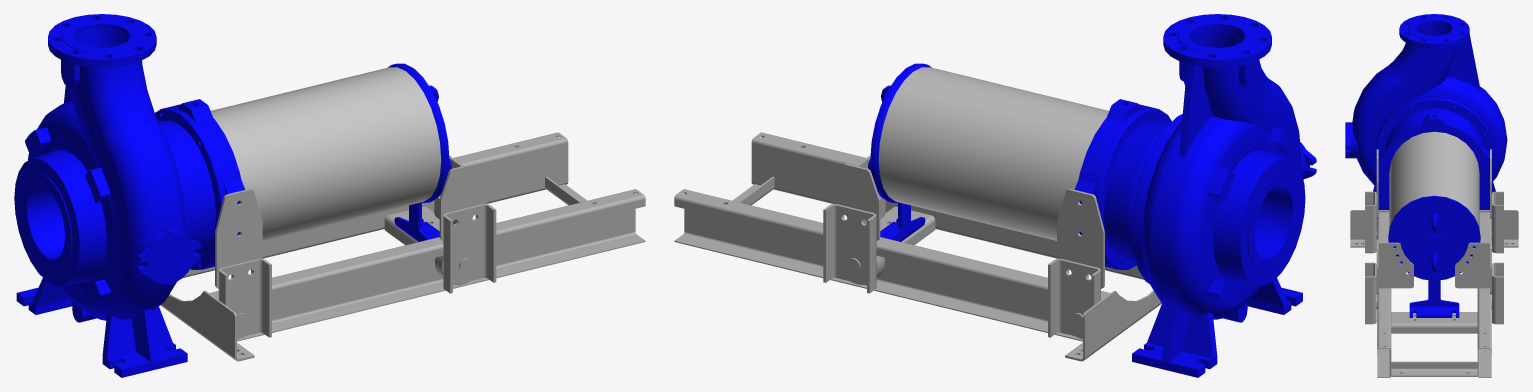
The model's file is Amaslide K 150-400 H Installation Pump.fbx.
3 renders of one model, left to right at view 1: azimuth 30°, elevation 25°; view 2: azimuth 150°, elevation 25°; view 3: azimuth 270°, elevation 25°, orthographic. The views are drawn at different scales.
Parts seen in each view (by area): view 1: AmaSlide baseplate 2 KB18 3 2.181 355_6, Sewatec_pump_casing_Testing0 400 1 1 4 K 150-400 UG125955500, Amarex_k_motor_housing_101400 0 2.181.18.1_4, Amarex_k_discharge_cover_1_ 7 KB18 UG180032411_2, EN_1092-237DN150PN 10_100400111_7, Bearing_housing 400 31 KB18 - K,D UG177327911 E410-6316 55K_, amarex_krt_support_foot43552.181_5; view 2: AmaSlide baseplate 2 KB18 3 2.181 355_6, Sewatec_pump_casing_Testing0 400 1 1 4 K 150-400 UG125955500, Amarex_k_motor_housing_101400 0 2.181.18.1_4, Amarex_k_discharge_cover_1_ 7 KB18 UG180032411_2, EN_1092-237DN150PN 10_100400111_7, Bearing_housing 400 31 KB18 - K,D UG177327911 E410-6316 55K_, amarex_krt_support_foot43552.181_5; view 3: AmaSlide baseplate 2 KB18 3 2.181 355_6, Amarex_k_motor_housing_101400 0 2.181.18.1_4, Sewatec_pump_casing_Testing0 400 1 1 4 K 150-400 UG125955500, Amarex_k_discharge_cover_1_ 7 KB18 UG180032411_2, Bearing_housing 400 31 KB18 - K,D UG177327911 E410-6316 55K_, EN_1092-237DN150PN 10_100400111_7, amarex_krt_support_foot43552.181_5.
Boxes of the visible parts, box(x1,y1,x2,y2) form: AmaSlide baseplate 2 KB18 3 2.181 355_6: box(160, 132, 645, 361); Sewatec_pump_casing_Testing0 400 1 1 4 K 150-400 UG125955500: box(14, 21, 201, 377); Amarex_k_motor_housing_101400 0 2.181.18.1_4: box(210, 63, 451, 240); Amarex_k_discharge_cover_1_ 7 KB18 UG180032411_2: box(155, 107, 225, 269); EN_1092-237DN150PN 10_100400111_7: box(48, 14, 156, 67); Bearing_housing 400 31 KB18 - K,D UG177327911 E410-6316 55K_: box(166, 99, 245, 268); amarex_krt_support_foot43552.181_5: box(394, 203, 439, 241); AmaSlide baseplate 2 KB18 3 2.181 355_6: box(674, 132, 1161, 361); Sewatec_pump_casing_Testing0 400 1 1 4 K 150-400 UG125955500: box(1132, 21, 1316, 377); Amarex_k_motor_housing_101400 0 2.181.18.1_4: box(868, 63, 1108, 240); Amarex_k_discharge_cover_1_ 7 KB18 UG180032411_2: box(1094, 107, 1182, 283); EN_1092-237DN150PN 10_100400111_7: box(1163, 14, 1271, 67); Bearing_housing 400 31 KB18 - K,D UG177327911 E410-6316 55K_: box(1074, 99, 1153, 268); amarex_krt_support_foot43552.181_5: box(880, 203, 925, 241); AmaSlide baseplate 2 KB18 3 2.181 355_6: box(1350, 149, 1518, 377); Amarex_k_motor_housing_101400 0 2.181.18.1_4: box(1388, 131, 1480, 279); Sewatec_pump_casing_Testing0 400 1 1 4 K 150-400 UG125955500: box(1345, 19, 1507, 209); Amarex_k_discharge_cover_1_ 7 KB18 UG180032411_2: box(1375, 97, 1493, 163); Bearing_housing 400 31 KB18 - K,D UG177327911 E410-6316 55K_: box(1378, 114, 1489, 197); EN_1092-237DN150PN 10_100400111_7: box(1399, 14, 1469, 48); amarex_krt_support_foot43552.181_5: box(1409, 235, 1459, 317).
Size of the model in its own units: 1682 by 855 by 700.
